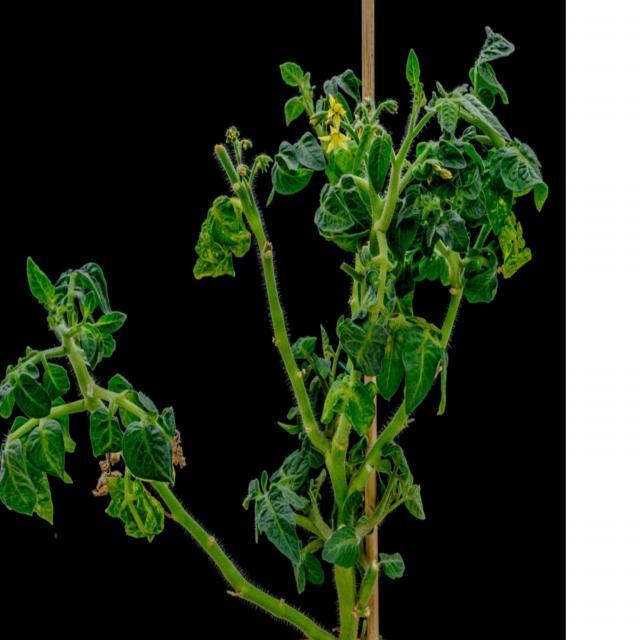tomato: (0, 28, 550, 640)
